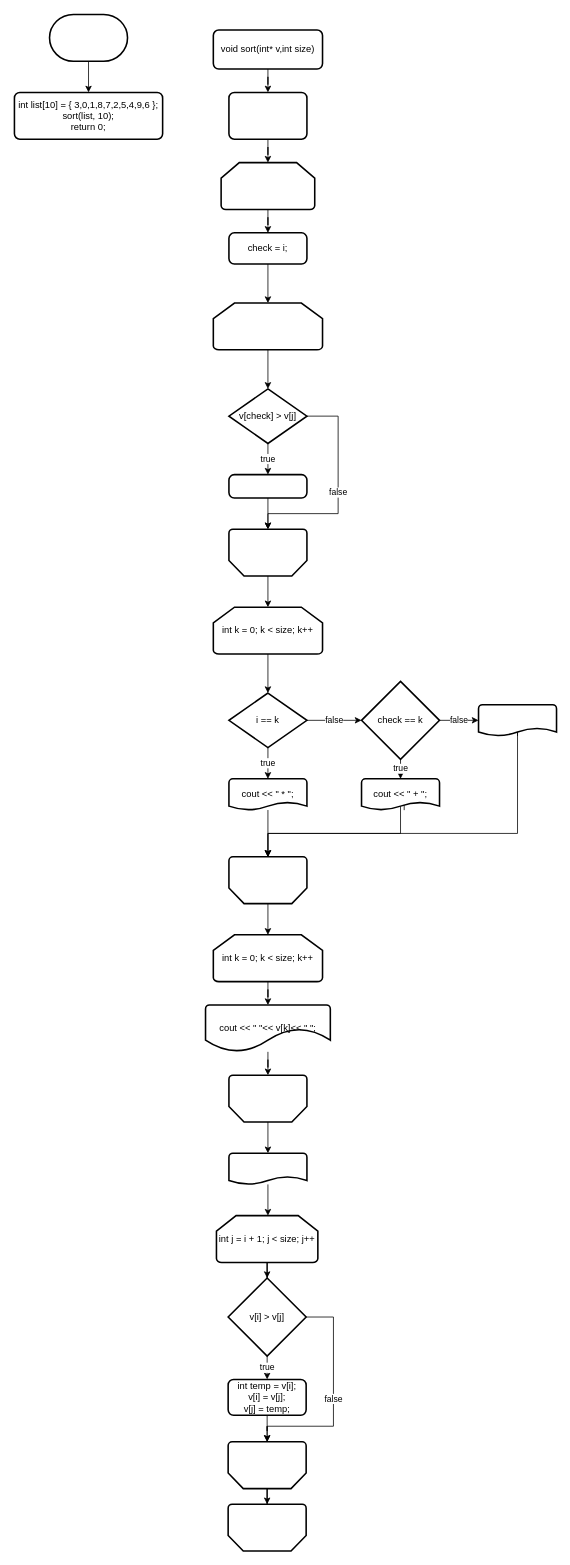
Image size: 570x1565. Some labels were removed from this diagram. The centre of each missing label's shape, as x and y in pixels:
check = j;: [267,485]
cout << " ";: [517,720]
cout << endl;: [267,1168]
int check = -1;: [267,115]
int i =0; i < size; i++: [267,185]
int j = i+1; j < size; j++: [267,326]
start: [88,37]
